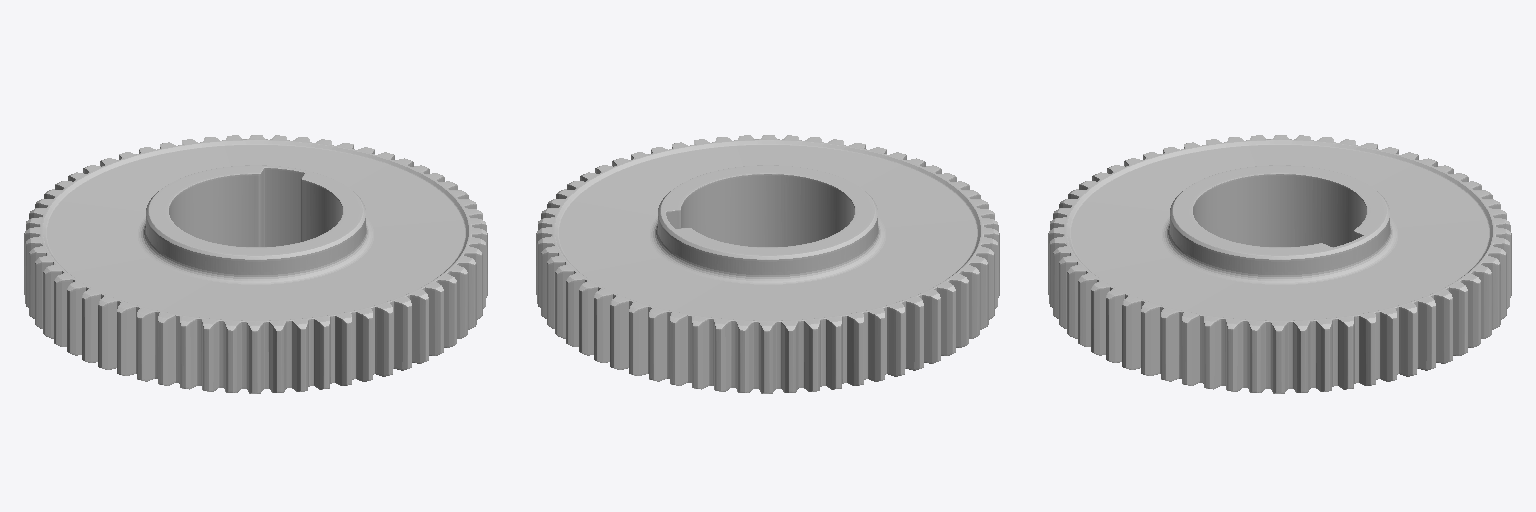
File: Gear.obj
The picture shows the model from 3 angles: view 1: azimuth 30°, elevation 25°; view 2: azimuth 150°, elevation 25°; view 3: azimuth 270°, elevation 25°; orthographic projection.
Parts seen in each view (by area): view 1: Gear2; view 2: Gear2; view 3: Gear2.
Boxes of the visible parts, x1,y1,x2,y2 form: Gear2: [24, 135, 487, 393]; Gear2: [536, 135, 999, 393]; Gear2: [1048, 135, 1511, 393].
Bounding box in the file's own units: 18.14 × 3.93 × 18.14.